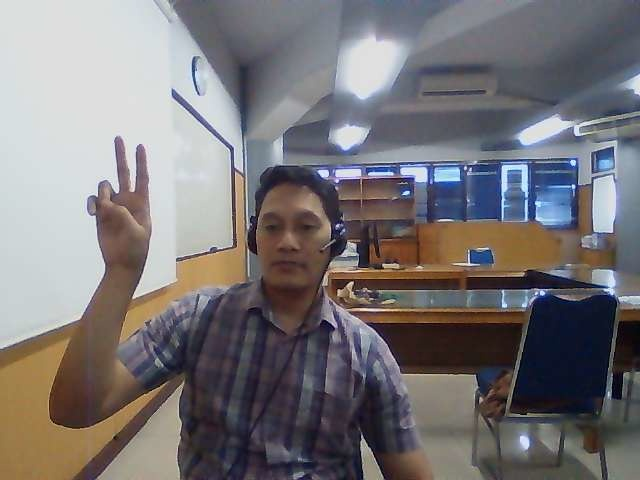Peace: (86, 135, 154, 271)
